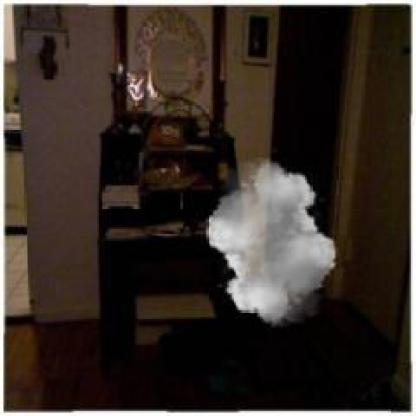Smoke: (200, 158, 342, 326)
